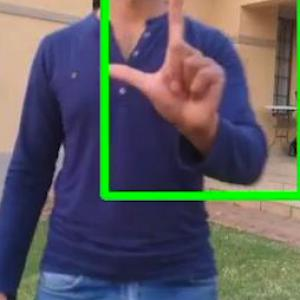land_hand: (100, 0, 235, 143)
